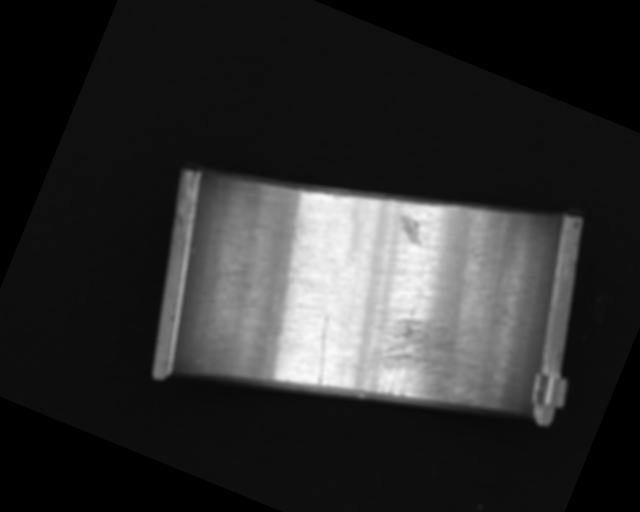bruise: (393, 214, 429, 245)
nick: (183, 175, 266, 284), (298, 314, 346, 386)
scratch: (348, 295, 504, 438)
